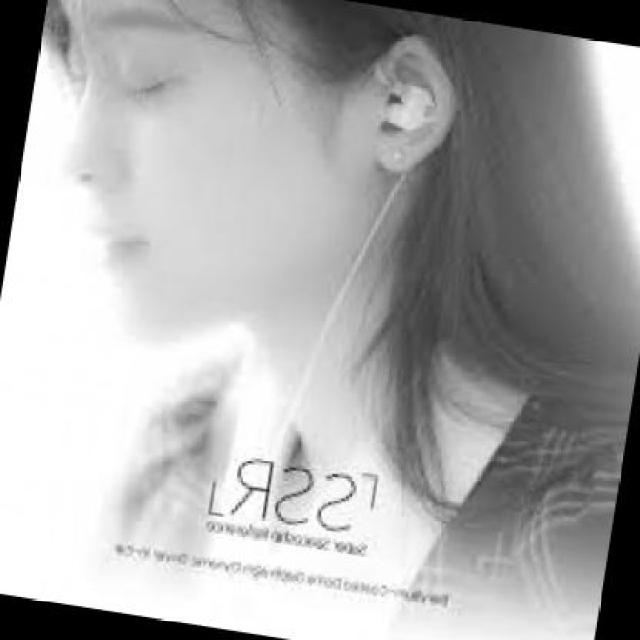earphone: (379, 82, 454, 137)
